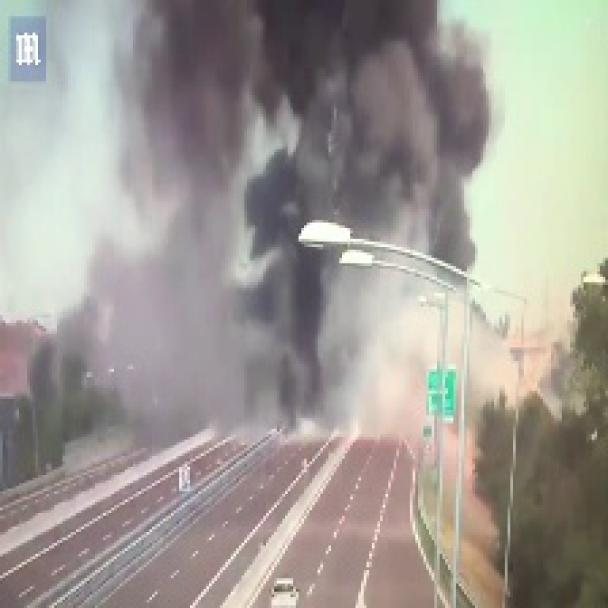smoke: (51, 1, 552, 468)
